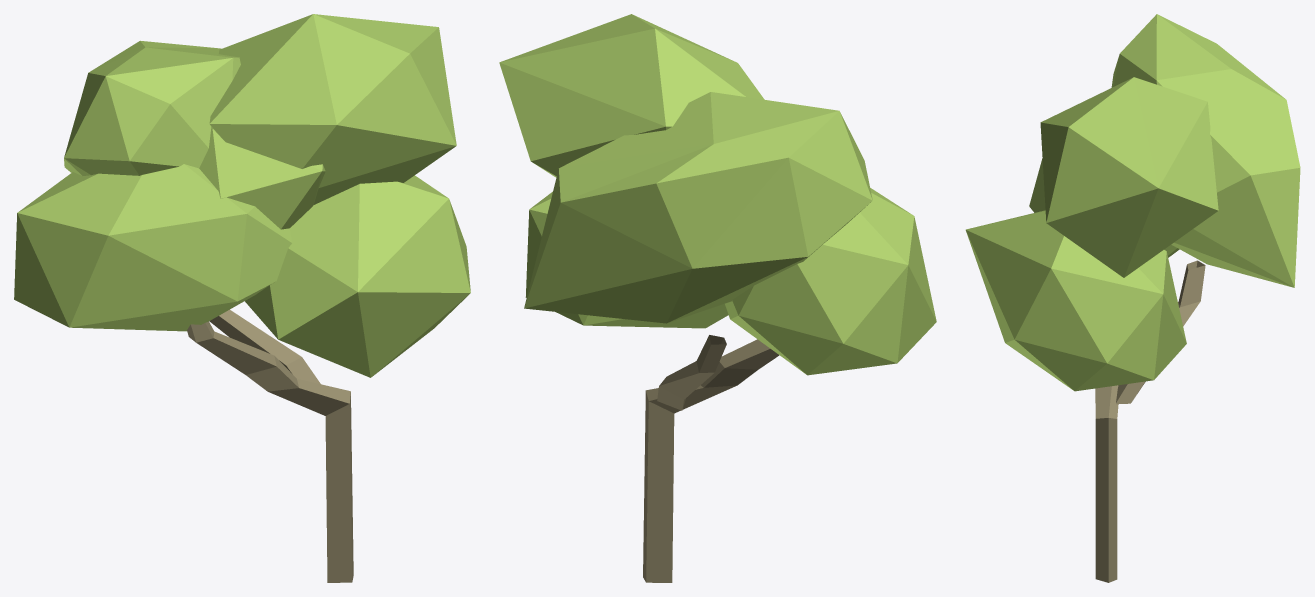
Rendered from Trees_3.fbx.
3 renders of one model, left to right at view 1: azimuth 30°, elevation 25°; view 2: azimuth 150°, elevation 25°; view 3: azimuth 270°, elevation 25°, orthographic. The views are drawn at different scales.
Visible parts, largest first — view 1: Trees_4:polySurface122; view 2: Trees_4:polySurface122; view 3: Trees_4:polySurface122.
Part boxes in pixels (box(x1,y1,x2,y2)): Trees_4:polySurface122: box(14, 14, 470, 582); Trees_4:polySurface122: box(499, 14, 936, 582); Trees_4:polySurface122: box(965, 14, 1300, 582).
Bounding box in the file's own units: 8.14 × 10.5 × 6.45.
